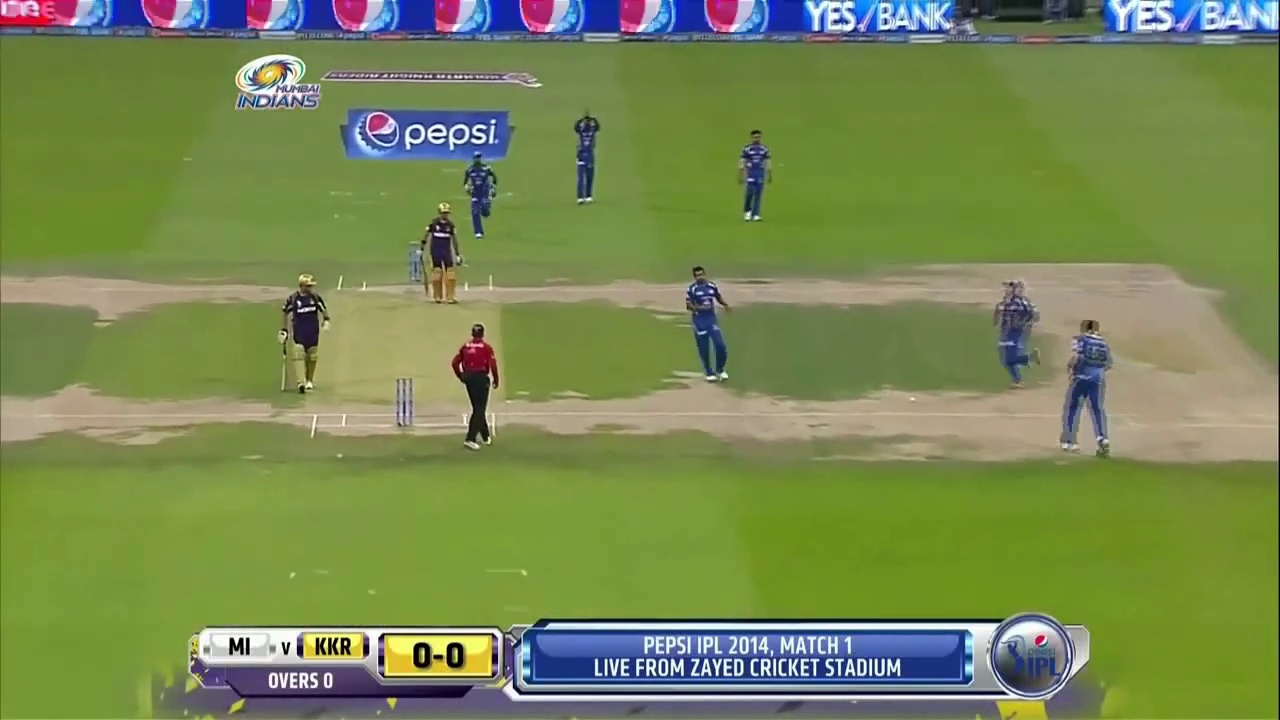bat: (281, 347, 288, 392)
stumps: (395, 376, 414, 429)
